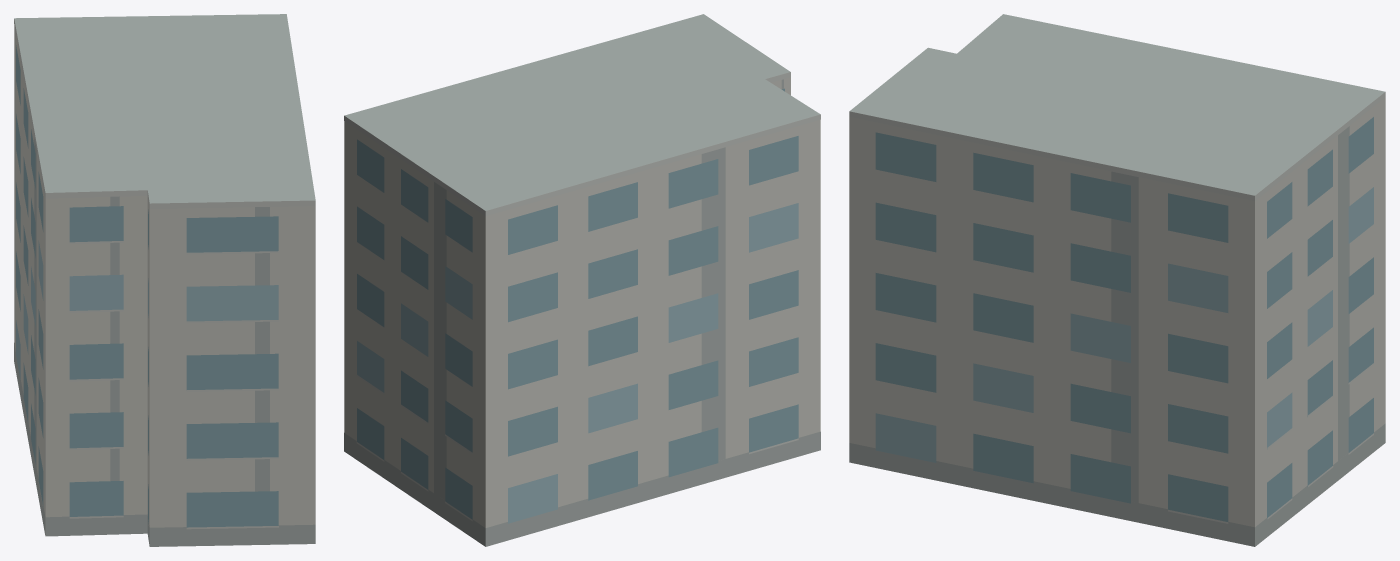
The model's file is residential-59a8c466-1265-42fe-9e67-217b0e85958e.glb.
3 views of the same model, side by side, from view 1: azimuth 30°, elevation 25°; view 2: azimuth 150°, elevation 25°; view 3: azimuth 270°, elevation 25° (orthographic). The views are drawn at different scales.
Visible parts, largest first — view 1: residential-59a8c466-1265-42fe-9e67-217b0e85958e.tmp; view 2: residential-59a8c466-1265-42fe-9e67-217b0e85958e.tmp; view 3: residential-59a8c466-1265-42fe-9e67-217b0e85958e.tmp.
Boxes of the visible parts, x1,y1,x2,y2 form: residential-59a8c466-1265-42fe-9e67-217b0e85958e.tmp: (14,14,315,546); residential-59a8c466-1265-42fe-9e67-217b0e85958e.tmp: (344,14,820,546); residential-59a8c466-1265-42fe-9e67-217b0e85958e.tmp: (849,14,1385,546).
Bounding box in the file's own units: 16.94 × 15.25 × 21.12.
